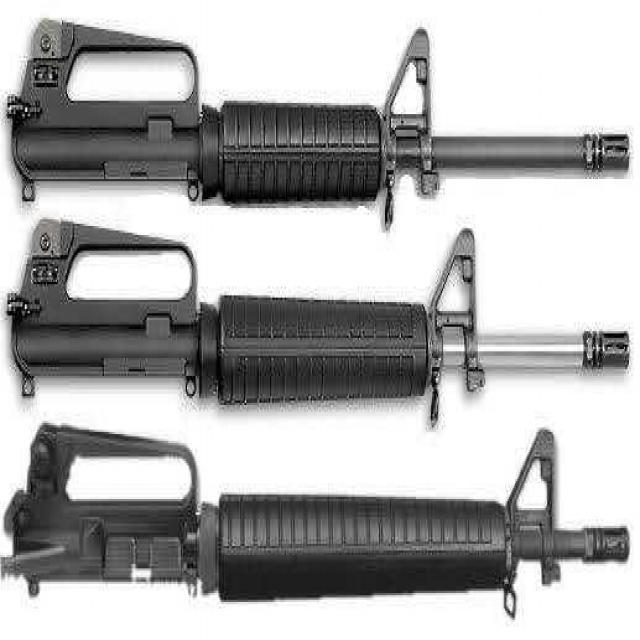weapon: (0, 31, 639, 260), (0, 427, 626, 639), (0, 246, 639, 425)
